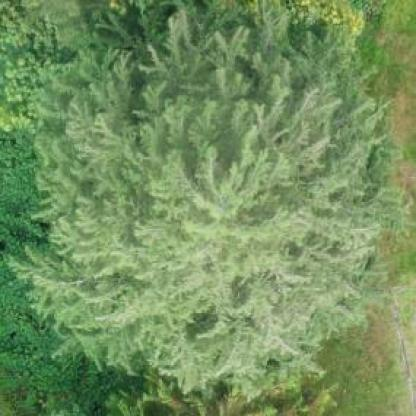Coniferous Tree: (22, 7, 398, 367)
